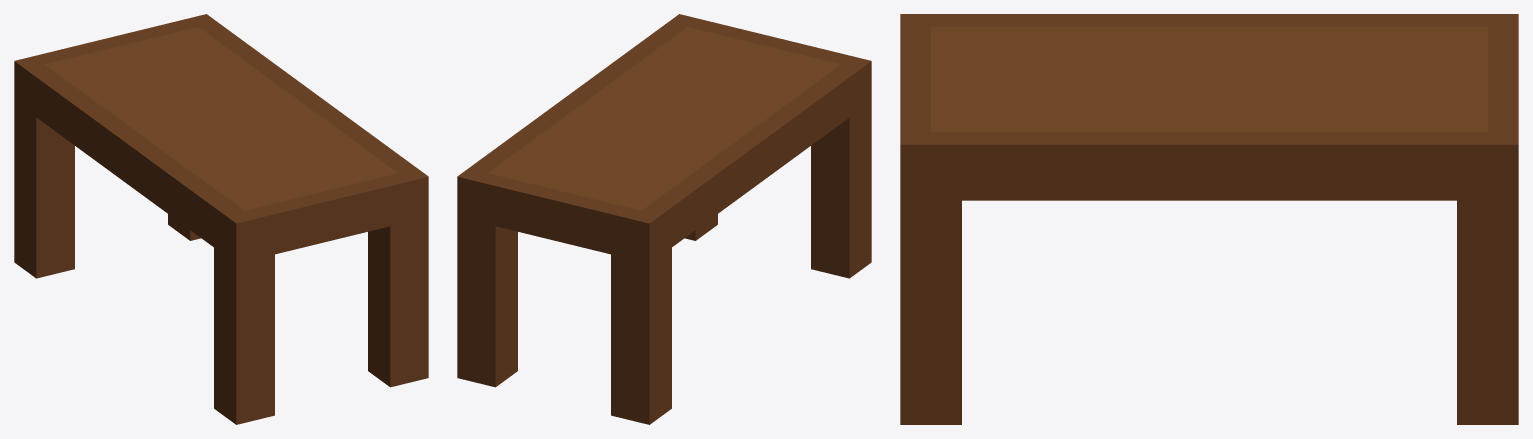
Rendered from table_wood.dae.
3 renders of one model, left to right at view 1: azimuth 30°, elevation 25°; view 2: azimuth 150°, elevation 25°; view 3: azimuth 270°, elevation 25°, orthographic. The views are drawn at different scales.
Visible parts, largest first — view 1: PlaneCOL; view 2: PlaneCOL; view 3: PlaneCOL.
Boxes of the visible parts, x1,y1,x2,y2 form: PlaneCOL: (14, 14, 428, 424); PlaneCOL: (457, 14, 871, 424); PlaneCOL: (900, 14, 1518, 424).
Bounding box in the file's own units: 1 × 2 × 1.
